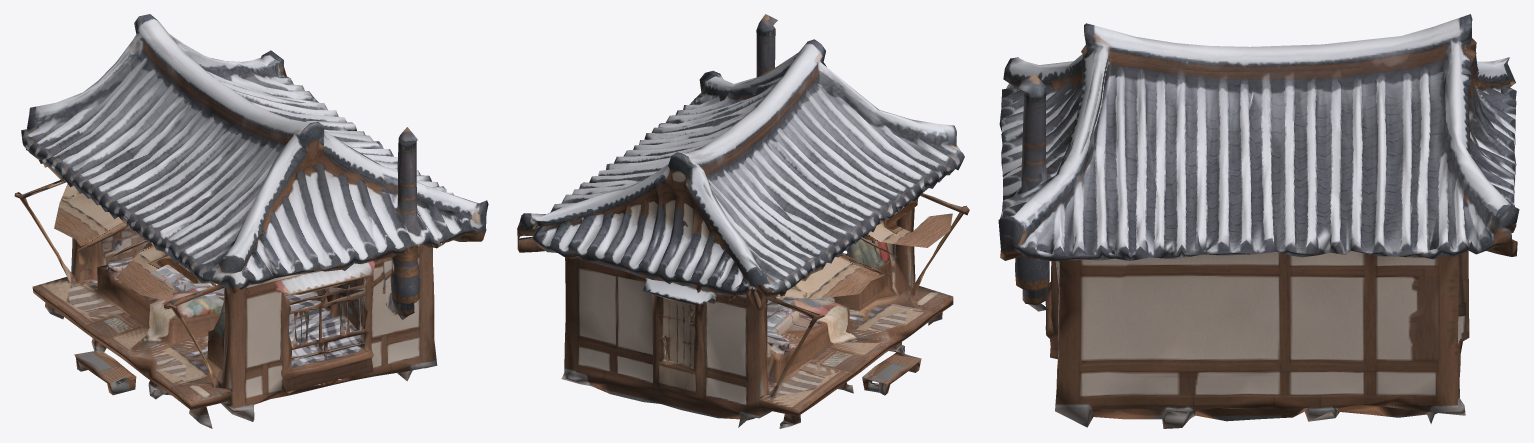
Rendered from PR_Shop_Silk.fbx.
3 views of the same model, side by side, from view 1: azimuth 30°, elevation 25°; view 2: azimuth 150°, elevation 25°; view 3: azimuth 270°, elevation 25° (orthographic). The views are drawn at different scales.
Visible parts, largest first — view 1: texture_mapping; view 2: texture_mapping; view 3: texture_mapping.
Part boxes in pixels (bbox=[...]): texture_mapping: bbox=[14, 14, 488, 428]; texture_mapping: bbox=[517, 14, 969, 428]; texture_mapping: bbox=[998, 14, 1519, 428].
Size of the model in its own units: 0.8357 by 1 by 0.7199.
Materials: 1 (1 with a texture image).
